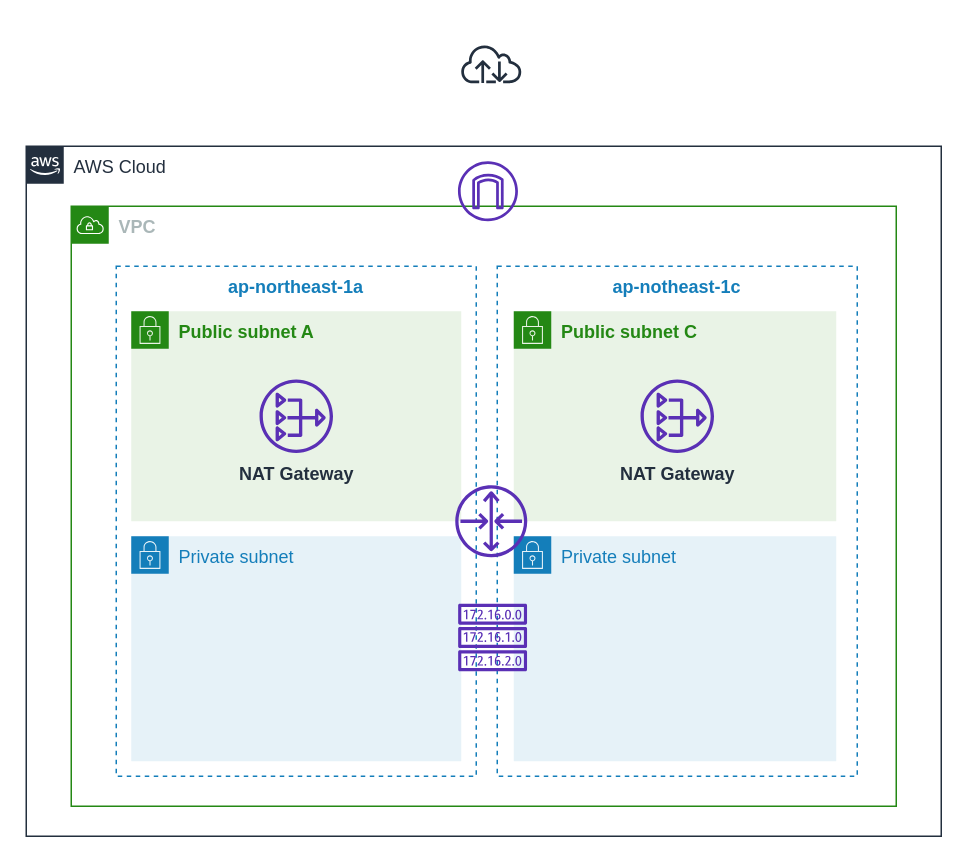
Some shapes in this 968 by 863 pixel diagram are drawn without their labels. Here are the shapes that lost their labels. From the top down, the centre of each, then its label:
At (x=490, y=63): "Internet".
At (x=487, y=190): "Internet Gateway".
At (x=490, y=520): "Router".
At (x=491, y=636): "Route Table".
